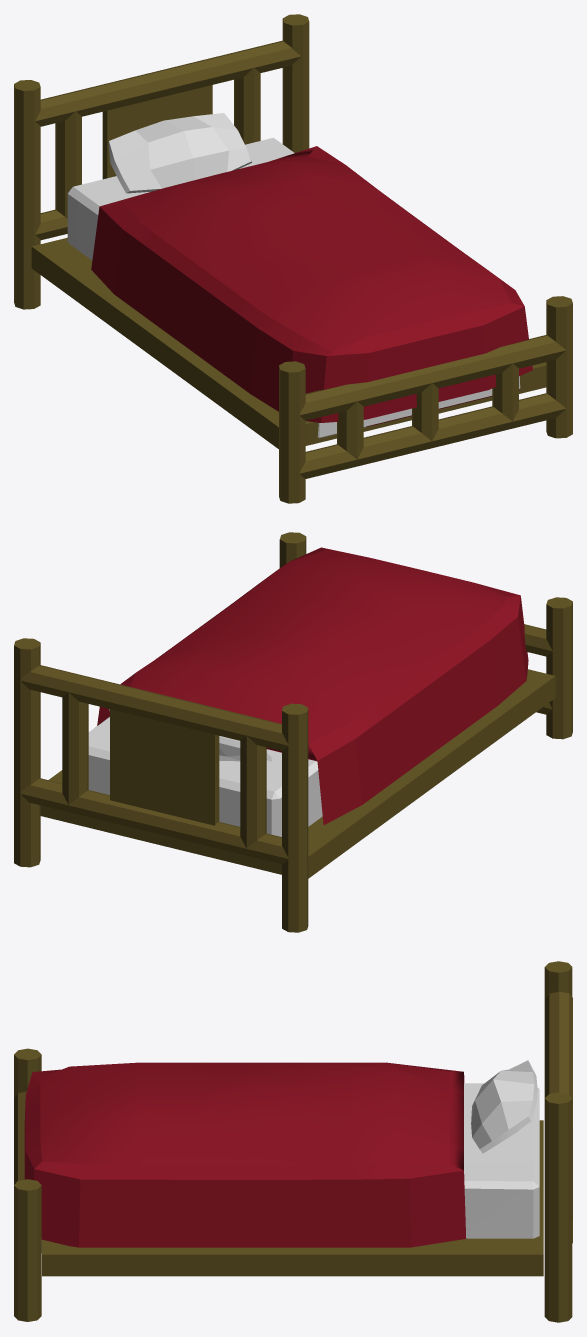
The model's file is Bed.fbx.
3 renders of one model, top to bottom at view 1: azimuth 30°, elevation 25°; view 2: azimuth 150°, elevation 25°; view 3: azimuth 270°, elevation 25°, orthographic.
Parts seen in each view (by area): view 1: Bed; view 2: Bed; view 3: Bed.
Boxes of the visible parts, left/top/right/bottom form: Bed: left=14, top=14, right=572, bottom=503; Bed: left=14, top=532, right=572, bottom=932; Bed: left=14, top=961, right=572, bottom=1322.
Bounding box in the file's own units: 7.01 × 5 × 11.58.
